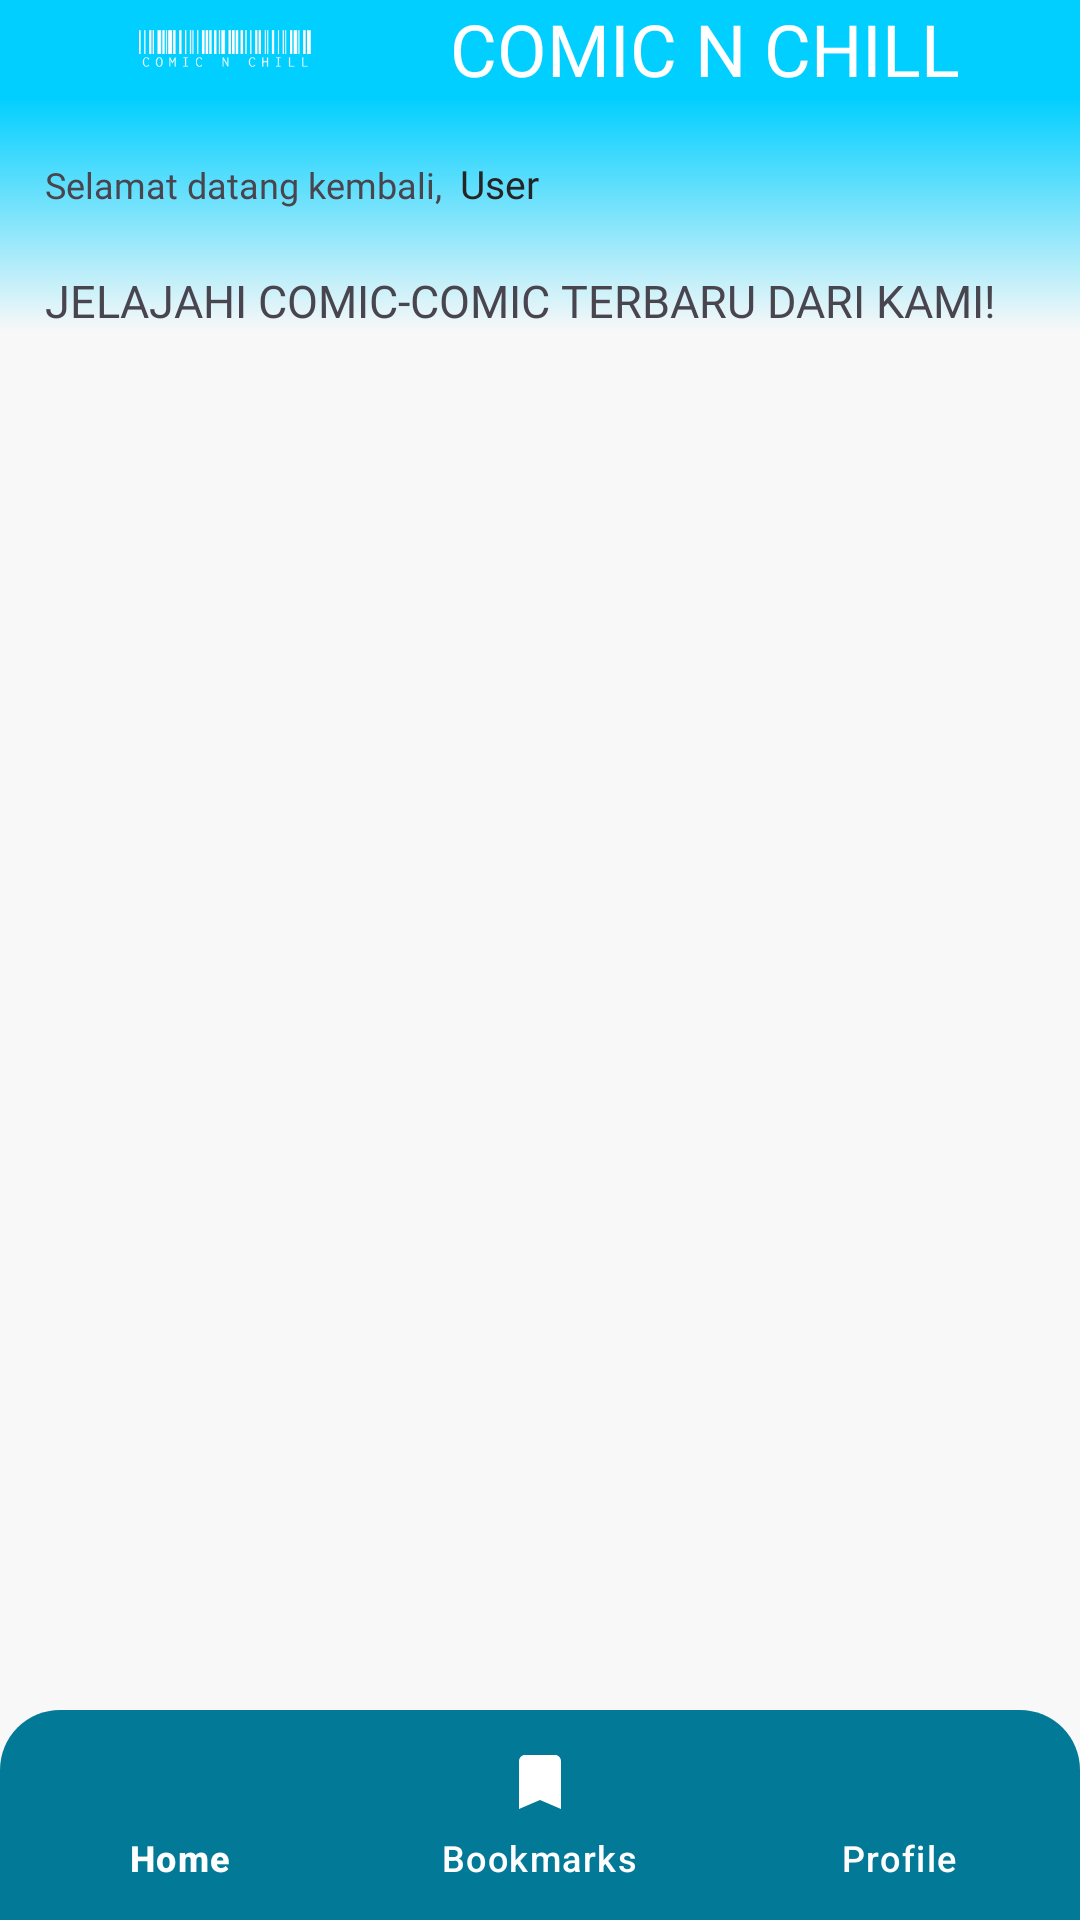

Locate icon controls on the screen. Image size 1080px x 1920px, boxes as (x1=x1, y1=y1, x2=x2, y2=y2).
comichome: (x1=139, y1=30, x2=311, y2=67)
